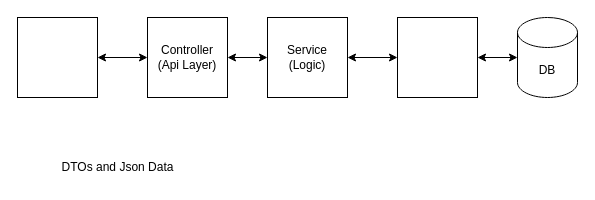
Some shapes in this 595 by 200 pixel diagram are drawn without their labels. The box of each missing label's shape, as (x1, y1, x2, y2) in pixels:
Dao (reposistory): (396, 16, 478, 98)
Postman client: (16, 16, 98, 98)
